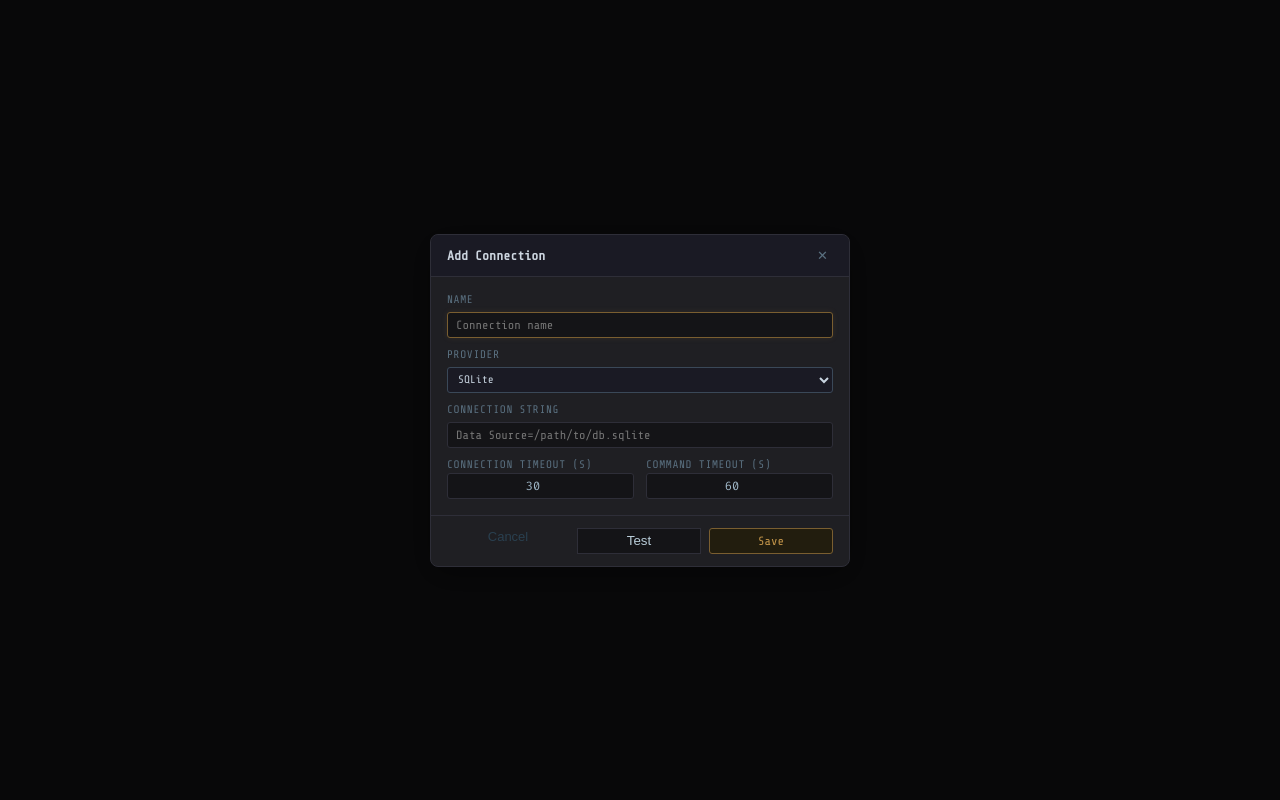
Test: DbConnectionDialog › shows "Testing connection..." during test
Type "Data Source=my.db" into the field with placeholder "Data Source=/path/to/db.sqlite" at x=640, y=434, box [447,422,833,448]
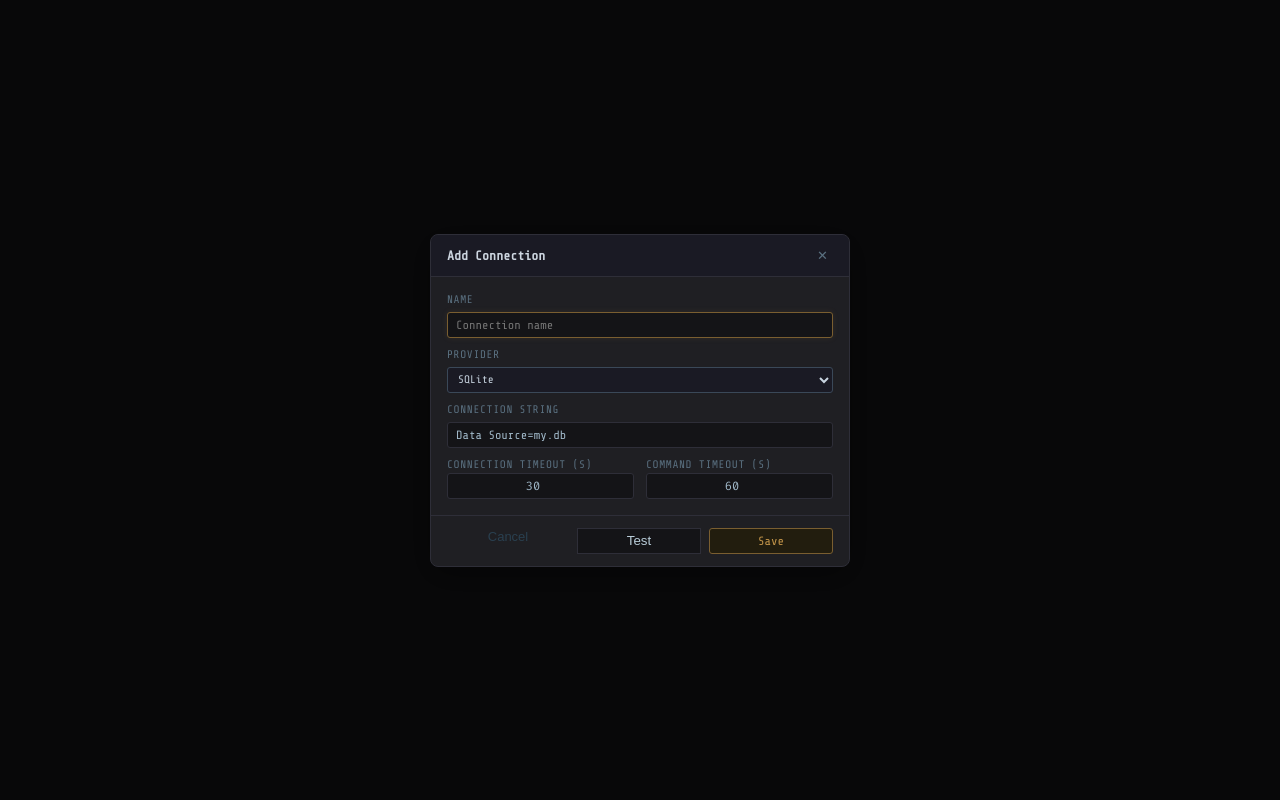
Click the button "Test" at x=639, y=540, box [577,528,701,554]
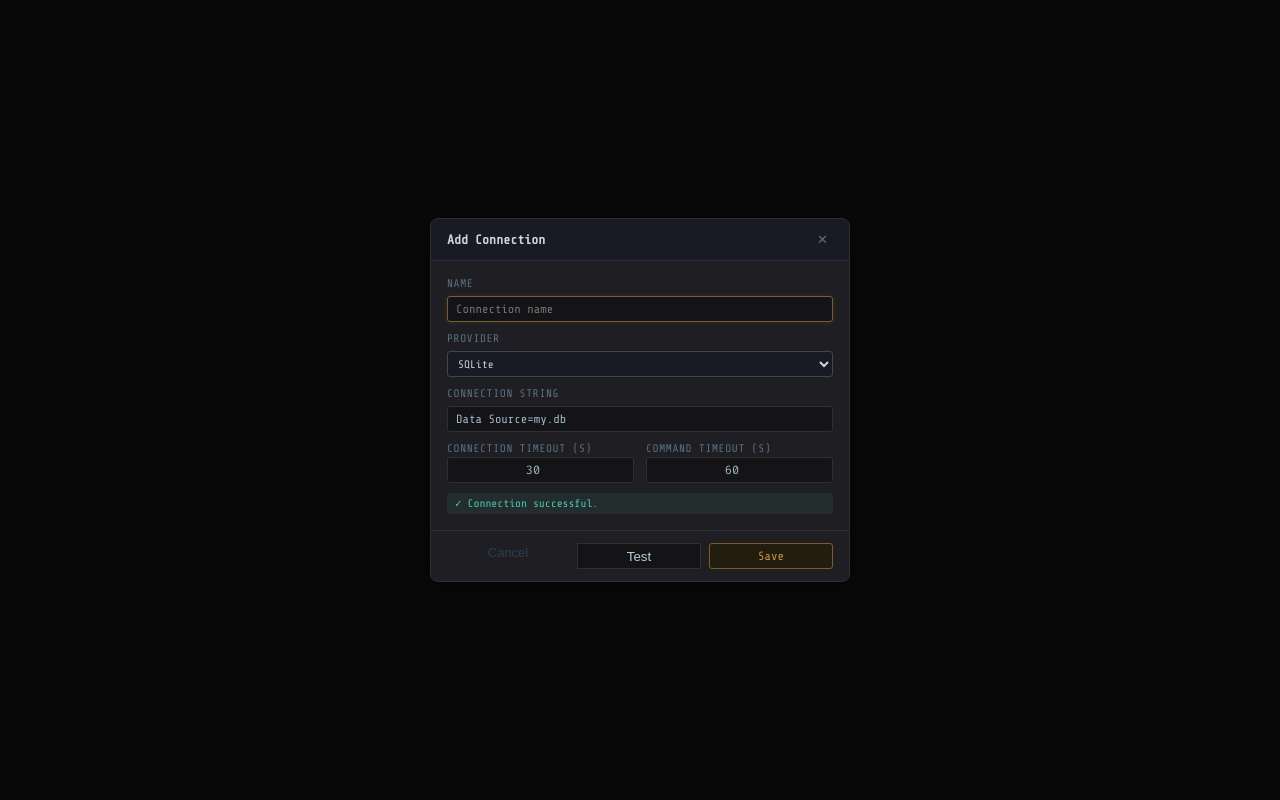
Result: the text "Testing connection" is shown at [447,493,833,514]
